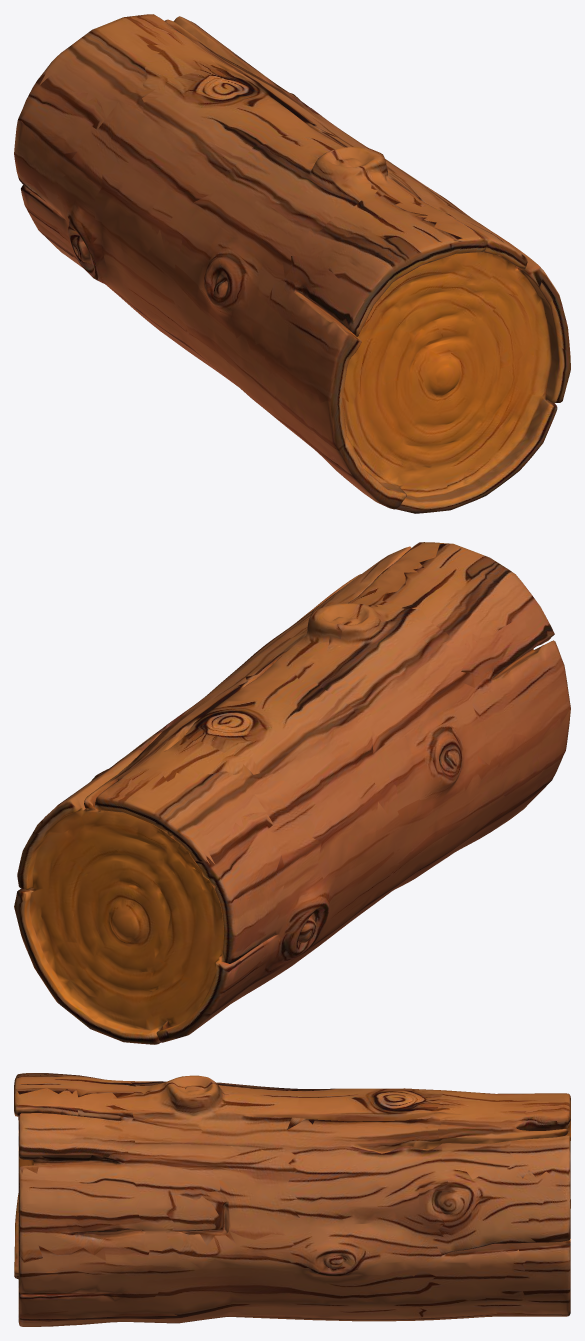
Rendered from log.glb.
3 renders of one model, top to bottom at view 1: azimuth 30°, elevation 25°; view 2: azimuth 150°, elevation 25°; view 3: azimuth 270°, elevation 25°, orthographic. The views are drawn at different scales.
Visible parts, largest first — view 1: tripo_node_bb69d994-e5c3-409a-9a7b-7f54e11a0ff0; view 2: tripo_node_bb69d994-e5c3-409a-9a7b-7f54e11a0ff0; view 3: tripo_node_bb69d994-e5c3-409a-9a7b-7f54e11a0ff0.
Part boxes in pixels (x1,y1,x2,y2): tripo_node_bb69d994-e5c3-409a-9a7b-7f54e11a0ff0: (14,14,570,513); tripo_node_bb69d994-e5c3-409a-9a7b-7f54e11a0ff0: (14,542,570,1044); tripo_node_bb69d994-e5c3-409a-9a7b-7f54e11a0ff0: (14,1073,570,1326).
Bounding box in the file's own units: 0.4245 × 0.4637 × 0.9999.
1 material, 1 textured.
